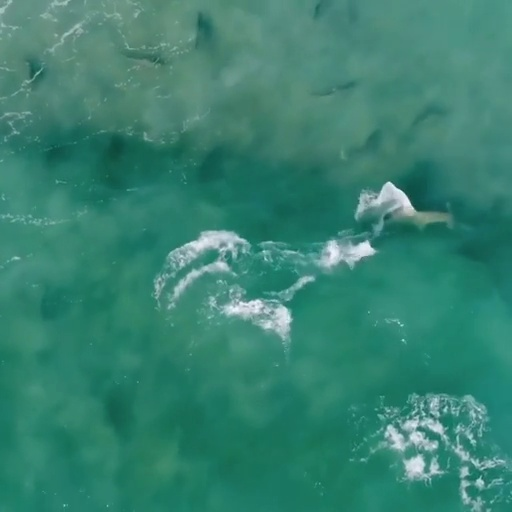shark: (371, 201, 458, 234)
